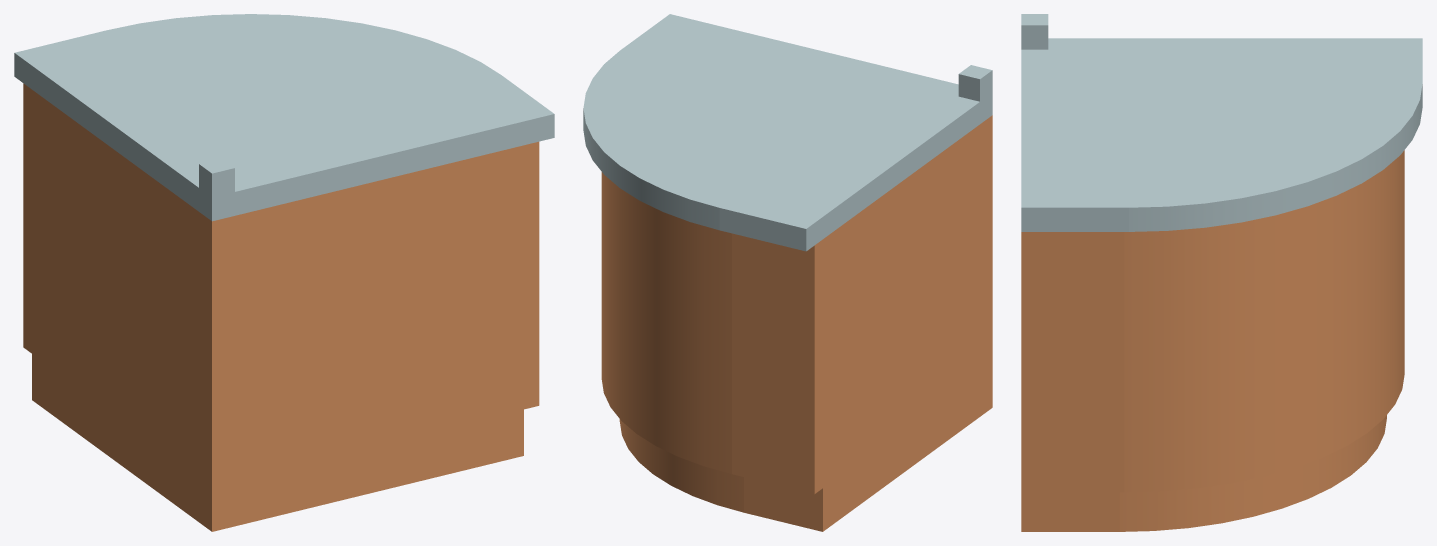
Rendered from KitchenCabinetCornerRound.glb.
3 views of the same model, side by side, from view 1: azimuth 30°, elevation 25°; view 2: azimuth 150°, elevation 25°; view 3: azimuth 270°, elevation 25° (orthographic). The views are drawn at different scales.
Parts seen in each view (by area): view 1: KitchenCabinetCornerRound; view 2: KitchenCabinetCornerRound; view 3: KitchenCabinetCornerRound.
Part boxes in pixels (x1,y1,x2,y2): KitchenCabinetCornerRound: [14, 14, 554, 531]; KitchenCabinetCornerRound: [583, 14, 992, 531]; KitchenCabinetCornerRound: [1021, 14, 1422, 531].
Bounding box in the file's own units: 1 × 1 × 1.
